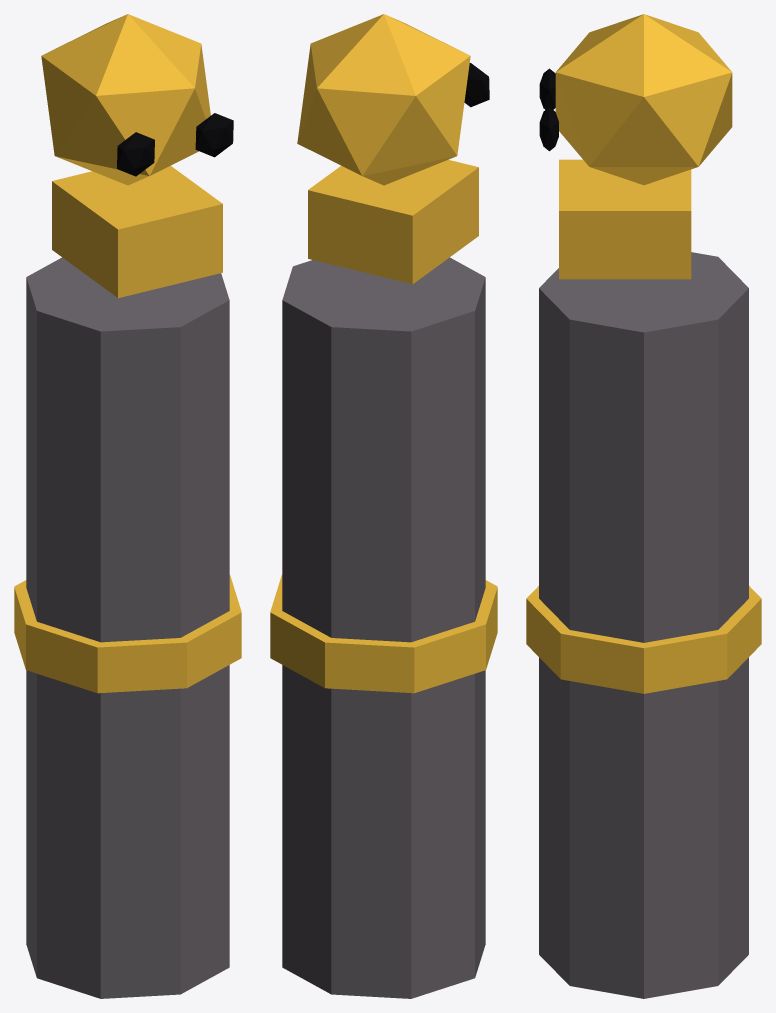
Rendered from Prop_OR_SkullTotem_01.glb.
3 views of the same model, side by side, from view 1: azimuth 30°, elevation 25°; view 2: azimuth 150°, elevation 25°; view 3: azimuth 270°, elevation 25° (orthographic).
Parts seen in each view (by area): view 1: Prop_OR_SkullTotem_01; view 2: Prop_OR_SkullTotem_01; view 3: Prop_OR_SkullTotem_01.
Boxes of the visible parts, x1,y1,x2,y2 form: Prop_OR_SkullTotem_01: (14, 14, 241, 998); Prop_OR_SkullTotem_01: (270, 14, 497, 998); Prop_OR_SkullTotem_01: (526, 14, 761, 998).
Size of the model in its own units: 0.56 by 2.47 by 0.56.
